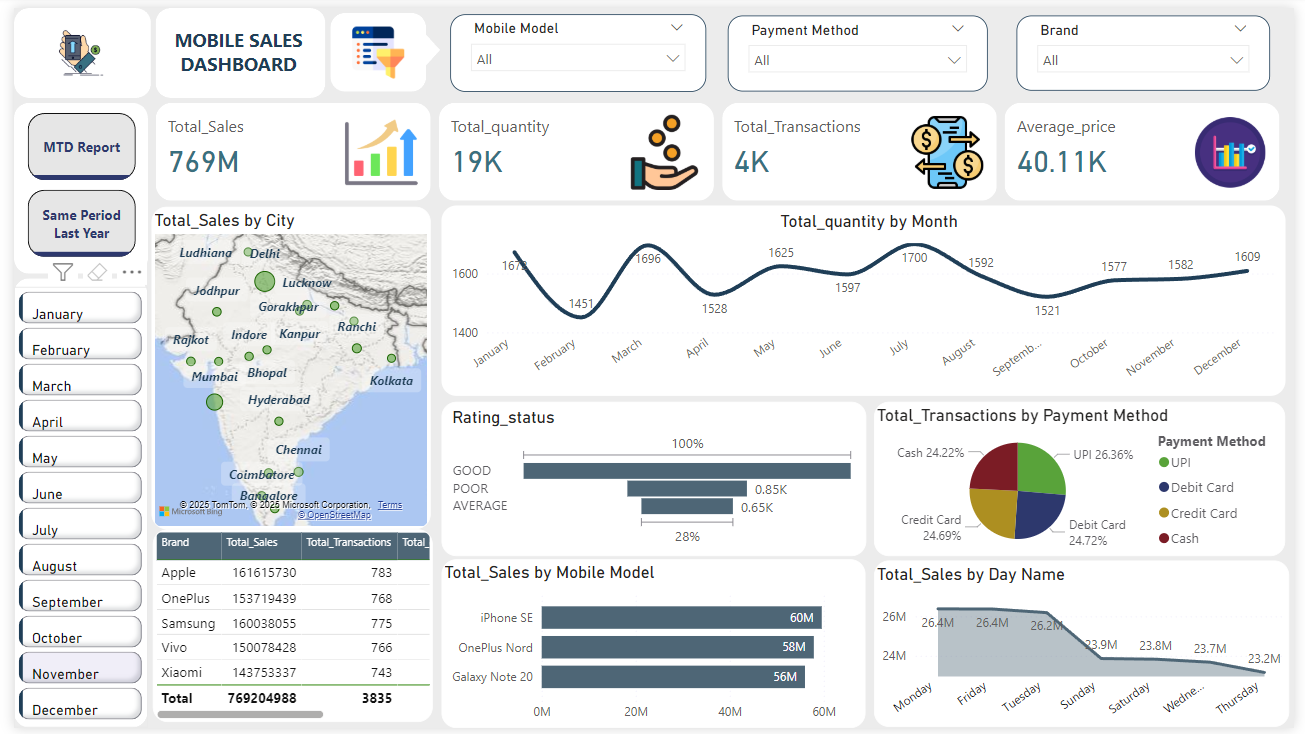

Layout of this report page (visuals, bound fields, positions):
{"tool":"powerbi","page":{"name":"Dashboard","canvas":[1280,720],"ordinal":0},"visuals":[{"type":"shape","box":[0,0,137.1,90],"z":0},{"type":"image","box":[0,0,134,90],"z":1000},{"type":"shape","box":[0,90,134,176],"z":2000},{"type":"shape","box":[0,266.7,133.3,453.3],"z":3000},{"type":"advancedSlicerVisual","fields":{"Values":["Custom_Calendar.Date.Variation.Date Hierarchy.Month"]},"box":[0,278.3,133.3,442],"z":4000},{"type":"cardVisual","fields":{"Data":["Sales_Data.Total_Sales","Sales_Data.Total_quantity","Sales_Data.Total_Transactions","Avg(Sales_Data.average_price)"]},"box":[134,90,1142,108],"z":5000},{"type":"slicer","fields":{"Values":["Sales_Data.Mobile Model"]},"box":[436.2,6.2,256.2,77.5],"z":6000},{"type":"slicer","fields":{"Values":["Sales_Data.Payment Method"]},"box":[713.8,7.5,260,76.2],"z":7000},{"type":"slicer","fields":{"Values":["Sales_Data.Brand"]},"box":[1002.5,7.5,253.8,75],"z":8000},{"type":"shape","box":[316,0,96,84],"z":9000},{"type":"image","box":[326,14,76,62],"z":10000},{"type":"shape","box":[386,20,40,44],"z":11000},{"type":"shape","box":[138,0,178,90],"z":12000},{"type":"textbox","box":[152,14,144,70],"z":13000},{"type":"map","fields":{"Category":["Sales_Data.City"],"Size":["Sales_Data.Total_Sales"]},"box":[138,198.3,279,322.7],"z":14000},{"type":"lineChart","fields":{"Y":["Sales_Data.Total_quantity"],"Category":["Custom_Calendar.Date.Variation.Date Hierarchy.Month"]},"box":[427,198,844,190.5],"z":15000},{"type":"funnel","title":"Rating_status","fields":{"Category":["Sales_Data.Rating_status"],"Y":["CountNonNull(Sales_Data.Rating_status)"]},"box":[428,394,425,154],"z":16000},{"type":"pieChart","fields":{"Y":["Sales_Data.Total_Transactions"],"Category":["Sales_Data.Payment Method"]},"box":[860,394,411,154],"z":17000},{"type":"clusteredBarChart","fields":{"Y":["Sales_Data.Total_Sales"],"Category":["Sales_Data.Mobile Model"]},"box":[428,551,424,169],"z":18000},{"type":"areaChart","fields":{"Category":["Custom_Calendar.Day Name"],"Y":["Sales_Data.Total_Sales"]},"box":[860,552,415,166],"z":19000},{"type":"tableEx","fields":{"Values":["Sales_Data.Brand","Sales_Data.Total_Sales","Sales_Data.Total_Transactions","Sales_Data.Total_quantity","Avg(Sales_Data.Price Per Unit)"]},"box":[138.6,521.4,280,192.9],"z":20000},{"type":"pageNavigator","box":[13.6,105,108.9,145.8],"z":20001}]}

Visuals, with their boxes in screenshot pixels (x1, y1, x2, y2), scaled from the page's 1280x720 canvas onto the 1305x734 screenshot:
shape: <region>0, 0, 140, 92</region>
image: <region>0, 0, 137, 92</region>
shape: <region>0, 92, 137, 271</region>
shape: <region>0, 272, 136, 733</region>
advancedSlicerVisual - Custom_Calendar.Date.Variation.Date Hierarchy.Month: <region>0, 284, 136, 733</region>
cardVisual - Sales_Data.Total_Sales x Sales_Data.Total_quantity: <region>137, 92, 1301, 202</region>
slicer - Sales_Data.Mobile Model: <region>445, 6, 706, 85</region>
slicer - Sales_Data.Payment Method: <region>728, 8, 993, 85</region>
slicer - Sales_Data.Brand: <region>1022, 8, 1281, 84</region>
shape: <region>322, 0, 420, 86</region>
image: <region>332, 14, 410, 77</region>
shape: <region>394, 20, 434, 65</region>
shape: <region>141, 0, 322, 92</region>
textbox: <region>155, 14, 302, 86</region>
map - Sales_Data.City x Sales_Data.Total_Sales: <region>141, 202, 425, 531</region>
lineChart - Sales_Data.Total_quantity x Custom_Calendar.Date.Variation.Date Hierarchy.Month: <region>435, 202, 1296, 396</region>
"Rating_status" funnel: <region>436, 402, 870, 559</region>
pieChart - Sales_Data.Total_Transactions x Sales_Data.Payment Method: <region>877, 402, 1296, 559</region>
clusteredBarChart - Sales_Data.Total_Sales x Sales_Data.Mobile Model: <region>436, 562, 869, 733</region>
areaChart - Custom_Calendar.Day Name x Sales_Data.Total_Sales: <region>877, 563, 1300, 732</region>
tableEx - Sales_Data.Brand x Sales_Data.Total_Sales: <region>141, 532, 427, 728</region>
pageNavigator: <region>14, 107, 125, 256</region>
